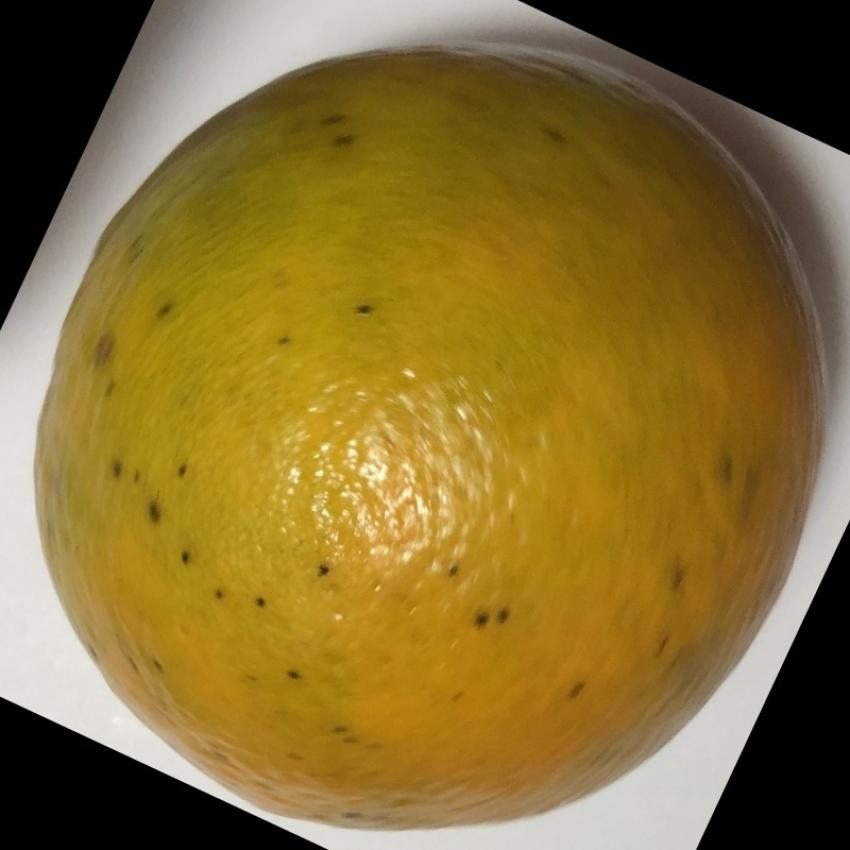Mal estado: (32, 37, 832, 840)
